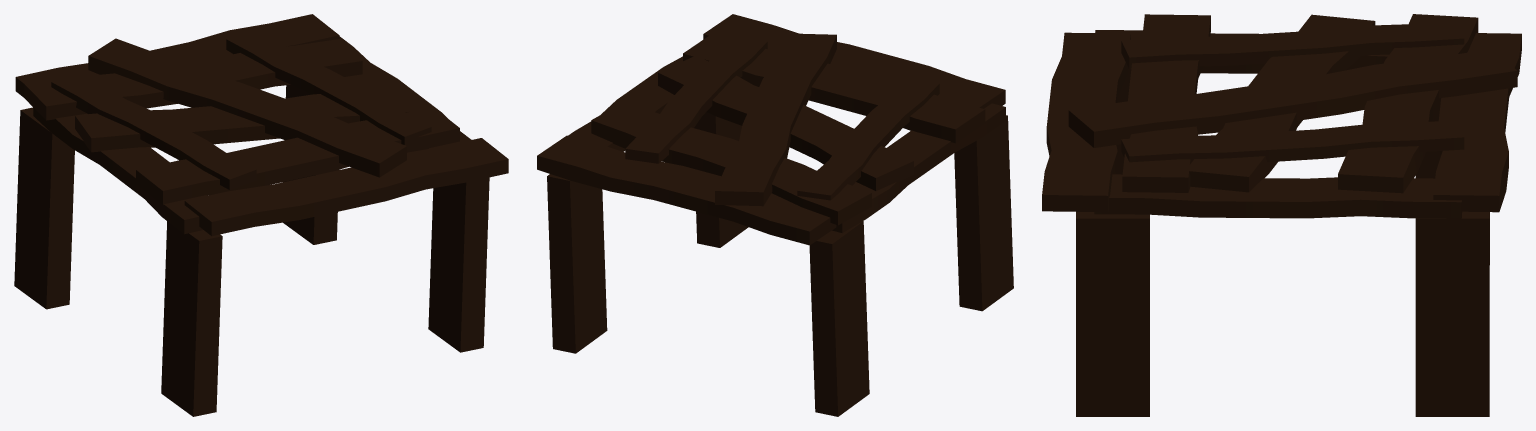
The model's file is stol1.fbx.
The picture shows the model from 3 angles, left to right: view 1: azimuth 30°, elevation 25°; view 2: azimuth 150°, elevation 25°; view 3: azimuth 270°, elevation 25°; orthographic projection. The views are drawn at different scales.
Visible parts, largest first — view 1: stol 029, stol 031, stol 021, stol 022, stol 023, stol 028, stol 020, stol 032, stol 027, stol 033, stol 030, stol 026 (+2 smaller); view 2: stol 030, stol 022, stol 021, stol 031, stol 024, stol 020, stol 028, stol 027, stol 029, stol 033, stol 032, stol 026 (+2 smaller); view 3: stol 031, stol 024, stol 023, stol 025, stol 029, stol 033, stol 032, stol 030, stol 020, stol 028, stol 027, stol 026 (+1 smaller).
Boxes of the visible parts, <box> form: stol 029: <box>184,138,508,236</box>; stol 031: <box>88,38,406,177</box>; stol 021: <box>161,221,222,416</box>; stol 022: <box>14,107,74,309</box>; stol 023: <box>428,177,489,352</box>; stol 028: <box>136,107,459,204</box>; stol 020: <box>24,38,362,120</box>; stol 032: <box>51,72,256,189</box>; stol 027: <box>75,88,421,152</box>; stol 033: <box>226,29,431,146</box>; stol 030: <box>15,14,339,97</box>; stol 026: <box>33,108,206,234</box>; stol 030: <box>537,135,836,245</box>; stol 022: <box>809,221,869,416</box>; stol 021: <box>954,115,1013,311</box>; stol 031: <box>715,33,836,206</box>; stol 024: <box>547,174,607,353</box>; stol 020: <box>591,101,871,225</box>; stol 028: <box>683,33,985,143</box>; stol 027: <box>658,55,913,190</box>; stol 029: <box>703,14,1005,108</box>; stol 033: <box>625,36,767,163</box>; stol 032: <box>797,78,939,200</box>; stol 026: <box>832,103,1005,233</box>; stol 031: <box>1068,49,1517,147</box>; stol 024: <box>1415,211,1489,416</box>; stol 023: <box>1076,211,1149,416</box>; stol 025: <box>1094,174,1462,218</box>; stol 029: <box>1042,32,1130,212</box>; stol 033: <box>1121,120,1464,162</box>; stol 032: <box>1121,21,1464,69</box>; stol 030: <box>1433,33,1521,212</box>; stol 020: <box>1338,14,1478,193</box>; stol 028: <box>1122,14,1210,192</box>; stol 027: <box>1186,14,1375,192</box>; stol 026: <box>1095,30,1388,73</box>.
Size of the model in its own units: 12.9 by 8.58 by 15.15.
